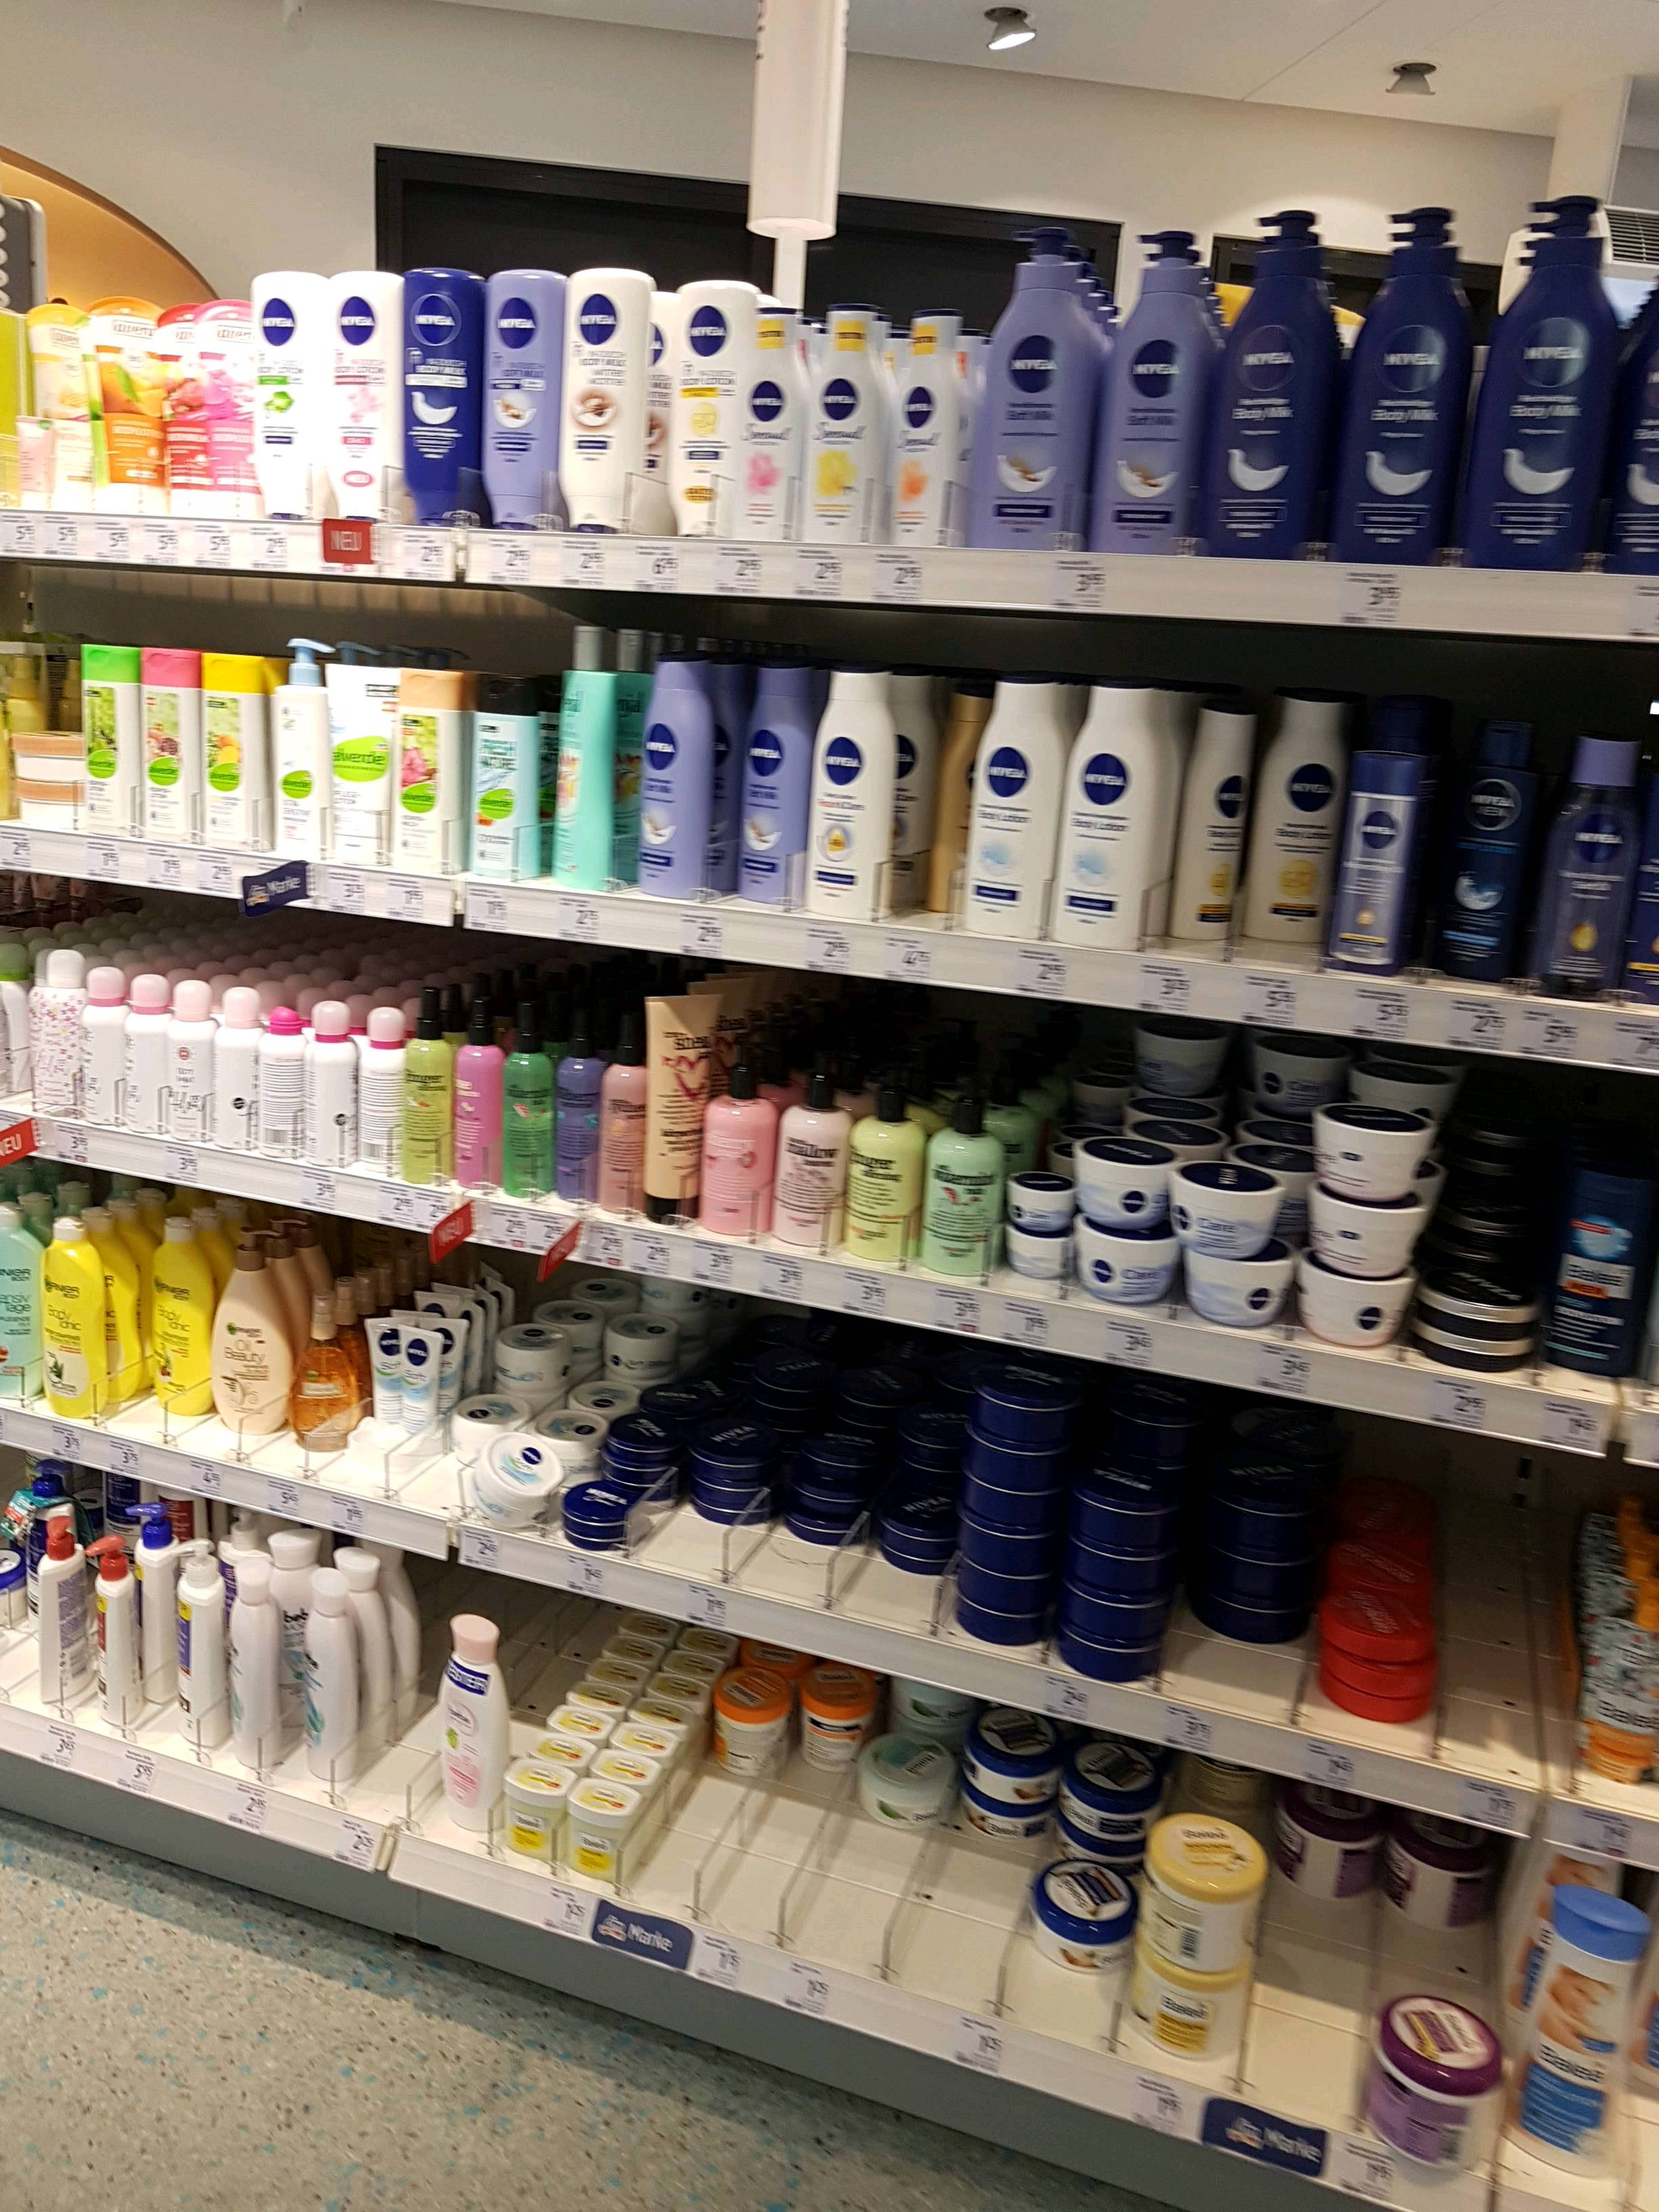Misplacement: (619, 1676, 1134, 2060), (91, 1209, 471, 1512), (1070, 1022, 1309, 1345), (648, 1430, 936, 1656), (1255, 1804, 1370, 2148), (1162, 1472, 1297, 1723), (1239, 674, 1347, 970), (887, 678, 992, 928), (1162, 671, 1236, 967)
Out-of-stock: (1445, 1435, 1556, 1832)
